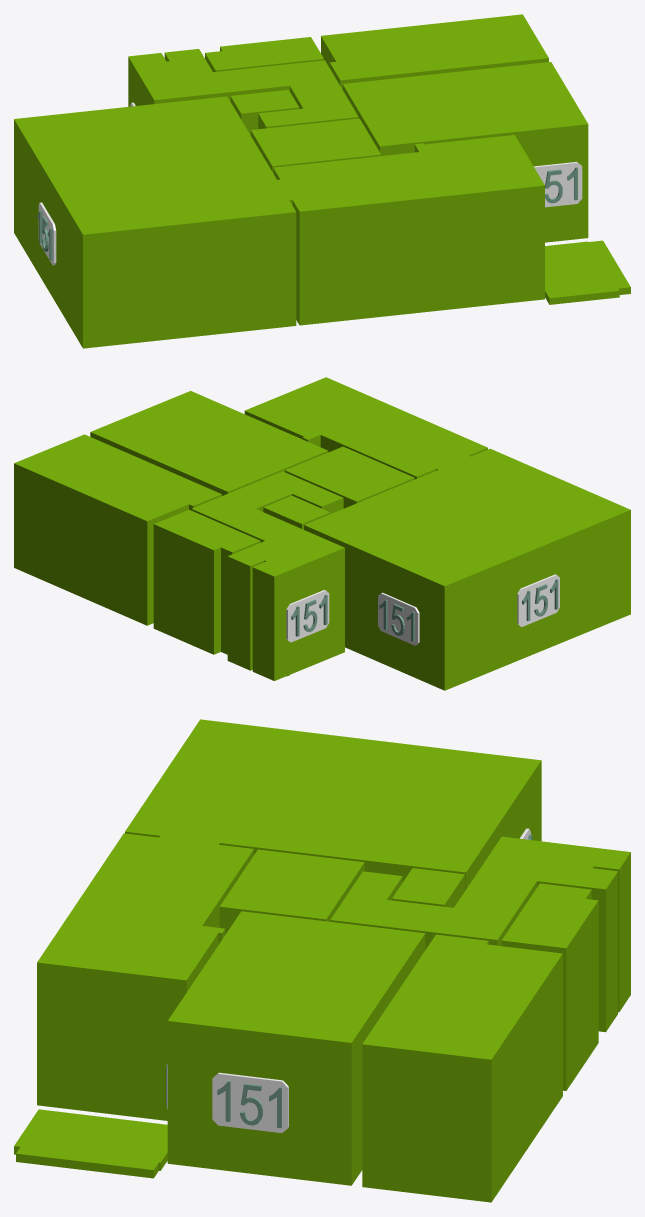
3 renders of one model, top to bottom at view 1: azimuth 30°, elevation 25°; view 2: azimuth 150°, elevation 25°; view 3: azimuth 270°, elevation 25°, orthographic. The views are drawn at different scales.
Parts seen in each view (by area): view 1: g_7, g_6, g_0, g_1, g_3, g_4, g_8, g_2, g_5, g_24, g_12; view 2: g_7, g_1, g_3, g_0, g_6, g_2, g_4, g_28, g_12, g_5, g_16; view 3: g_0, g_7, g_1, g_6, g_3, g_2, g_8, g_4, g_20, g_5.
Part boxes in pixels (x1,y1,x2,y2): g_7: [14, 96, 296, 348]; g_6: [273, 135, 544, 325]; g_0: [342, 62, 588, 242]; g_1: [321, 14, 548, 89]; g_3: [128, 49, 358, 129]; g_4: [251, 118, 381, 172]; g_8: [545, 240, 630, 304]; g_2: [205, 37, 323, 72]; g_5: [230, 90, 299, 135]; g_24: [534, 162, 582, 207]; g_12: [38, 202, 56, 265]; g_7: [304, 448, 630, 690]; g_1: [14, 434, 221, 625]; g_3: [191, 471, 344, 680]; g_0: [90, 391, 328, 495]; g_6: [244, 377, 487, 479]; g_2: [153, 509, 260, 654]; g_4: [285, 446, 414, 508]; g_28: [286, 590, 329, 642]; g_12: [517, 574, 559, 626]; g_5: [263, 495, 330, 529]; g_16: [378, 592, 419, 645]; g_0: [167, 911, 425, 1185]; g_7: [125, 719, 541, 890]; g_1: [362, 934, 562, 1202]; g_6: [37, 833, 253, 1120]; g_3: [330, 836, 630, 1032]; g_2: [501, 883, 598, 1090]; g_8: [14, 1109, 167, 1178]; g_4: [219, 849, 364, 934]; g_20: [212, 1072, 288, 1132]; g_5: [392, 868, 464, 907].
Bounding box in the file's own units: 13.16 × 2.74 × 10.08.
